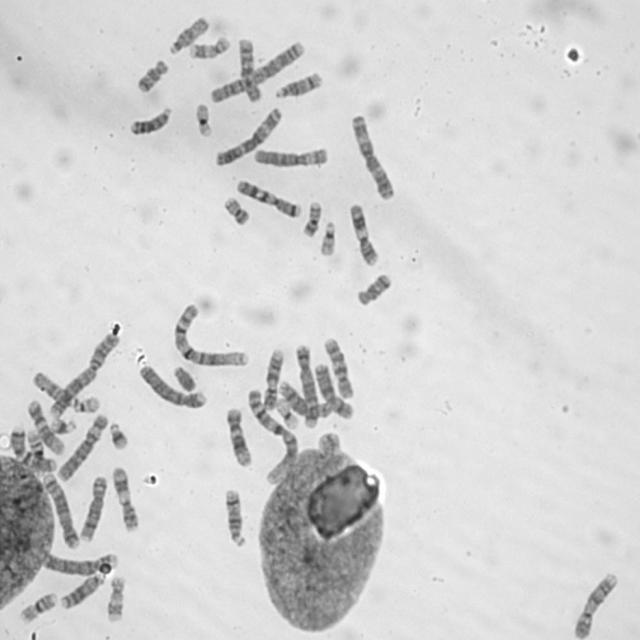A1: (169, 300, 250, 369), (245, 386, 298, 483)
A2: (206, 38, 306, 105), (46, 330, 121, 419)
A3: (346, 110, 396, 202), (212, 104, 284, 167)
B4: (136, 360, 208, 410), (40, 547, 119, 577)
B5: (40, 470, 80, 550), (293, 341, 320, 430)
C10: (320, 334, 355, 400), (236, 35, 264, 104)
C11: (346, 200, 380, 268), (110, 463, 140, 532)
C12: (25, 398, 65, 457), (224, 404, 254, 468)
C6: (55, 410, 110, 484), (250, 144, 330, 169)
C7: (233, 176, 302, 219), (6, 424, 58, 473)
C8: (278, 379, 334, 421), (78, 472, 109, 542)
C9: (570, 569, 620, 639), (261, 344, 285, 411)
D13: (58, 571, 106, 610), (126, 102, 174, 138)
D14: (272, 68, 324, 101), (222, 484, 248, 549)
D15: (30, 368, 89, 411), (166, 13, 210, 56)
E16: (16, 588, 59, 624), (25, 428, 47, 476)
E17: (186, 33, 232, 61), (103, 572, 127, 625)
E18: (353, 270, 394, 308), (134, 56, 170, 94)
F19: (273, 397, 300, 431), (193, 100, 214, 139)
F20: (220, 193, 252, 227), (300, 199, 324, 239)
G21: (107, 419, 130, 451), (48, 415, 79, 435)
G22: (316, 219, 338, 258), (70, 392, 100, 414)
X: (312, 360, 355, 420)
Y: (170, 362, 198, 393)
